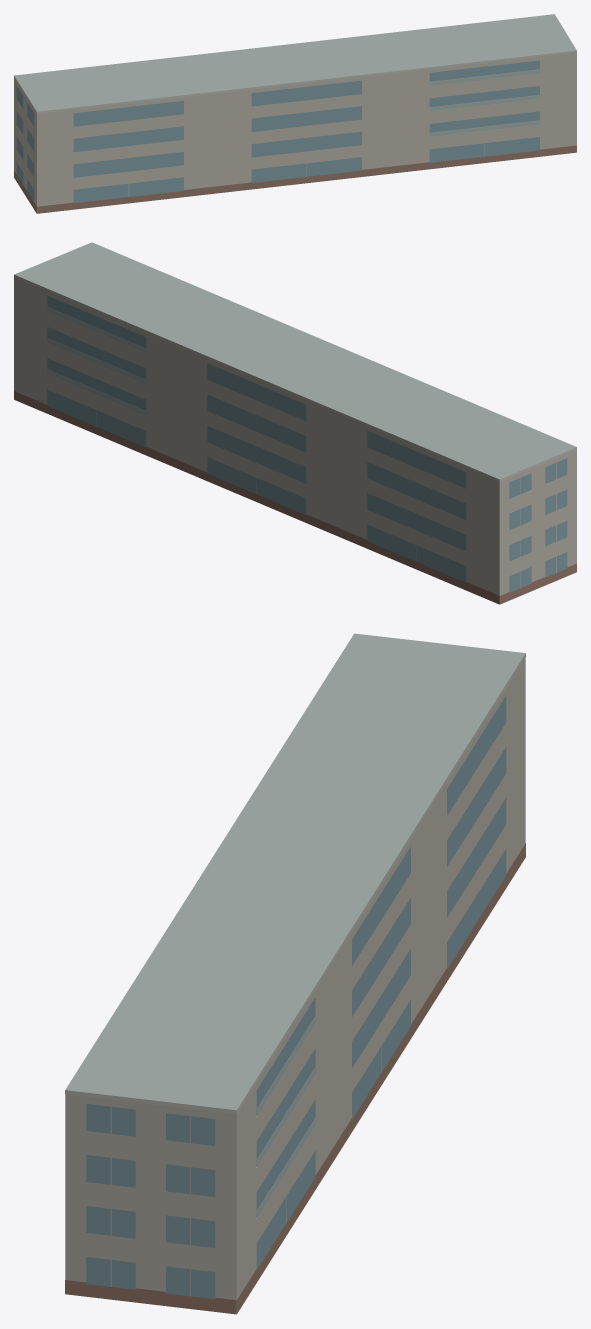
Rendered from survey-upis-32731591.glb.
3 renders of one model, top to bottom at view 1: azimuth 30°, elevation 25°; view 2: azimuth 150°, elevation 25°; view 3: azimuth 270°, elevation 25°, orthographic. The views are drawn at different scales.
Visible parts, largest first — view 1: survey-upis-32731591.tmp; view 2: survey-upis-32731591.tmp; view 3: survey-upis-32731591.tmp.
Part boxes in pixels (bbox=[...]): survey-upis-32731591.tmp: bbox=[14, 14, 576, 213]; survey-upis-32731591.tmp: bbox=[14, 242, 576, 604]; survey-upis-32731591.tmp: bbox=[65, 633, 525, 1314].
Bounding box in the file's own units: 61.12 × 12.2 × 24.96.
